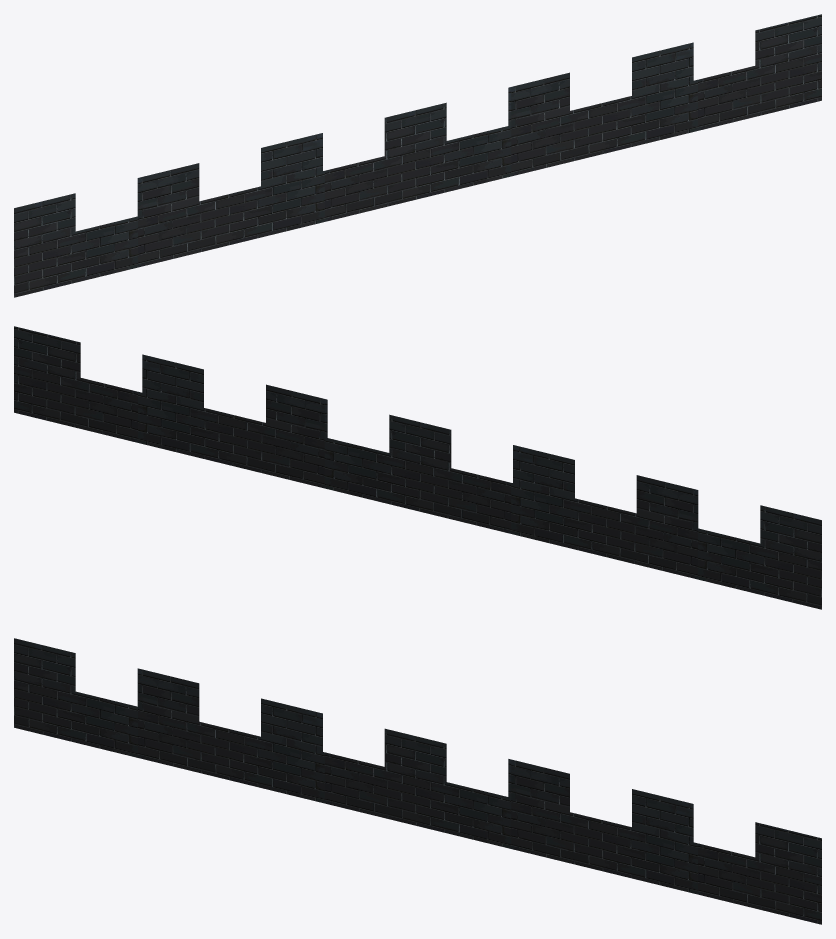
Rendered from wall.obj.
3 views of the same model, one above another, from view 1: azimuth 30°, elevation 25°; view 2: azimuth 150°, elevation 25°; view 3: azimuth 330°, elevation 25° (orthographic).
Parts seen in each view (by area): view 1: Plane010; view 2: Plane010; view 3: Plane010.
Part boxes in pixels (x1,y1,x2,y2): Plane010: (14,14,821,297); Plane010: (14,326,821,609); Plane010: (14,638,821,924).
Size of the model in its own units: 14.54 by 1.54 by 0.
1 material, 1 textured.
